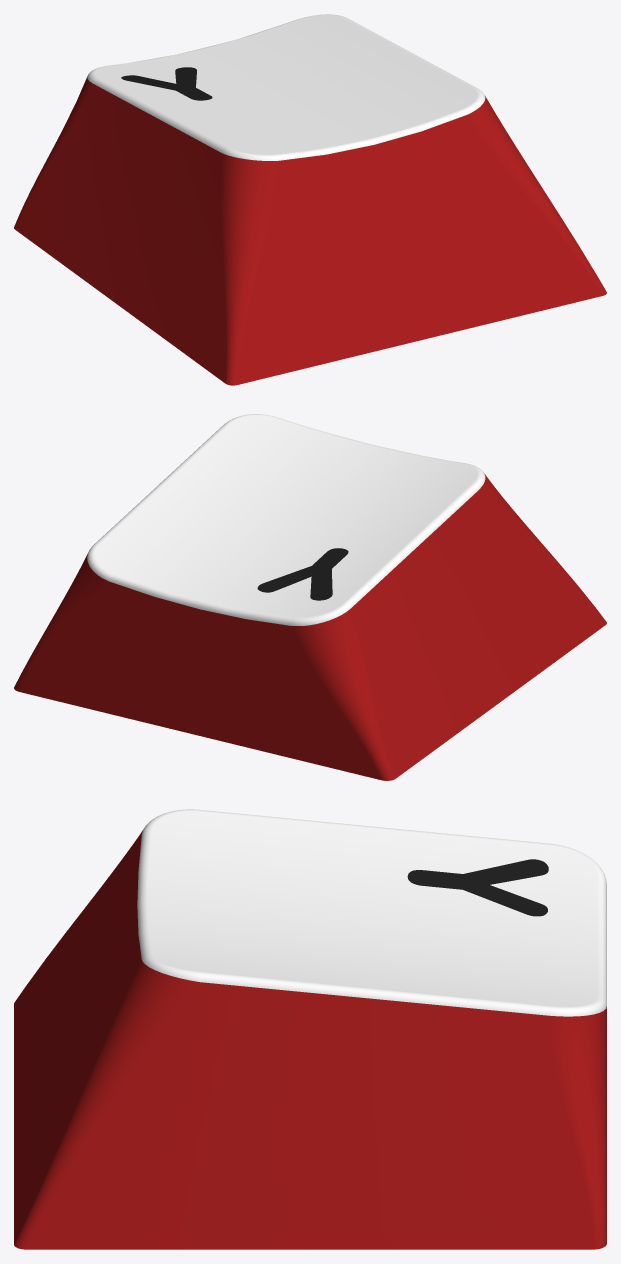
3 renders of one model, top to bottom at view 1: azimuth 30°, elevation 25°; view 2: azimuth 150°, elevation 25°; view 3: azimuth 270°, elevation 25°, orthographic. The views are drawn at different scales.
Visible parts, largest first — view 1: Body1; view 2: Body1; view 3: Body1.
Boxes of the visible parts, x1=… form: Body1: x1=14, y1=14, x2=606, y2=385; Body1: x1=14, y1=414, x2=606, y2=780; Body1: x1=14, y1=809, x2=606, y2=1249.
Bounding box in the file's own units: 18 × 7.85 × 18.
